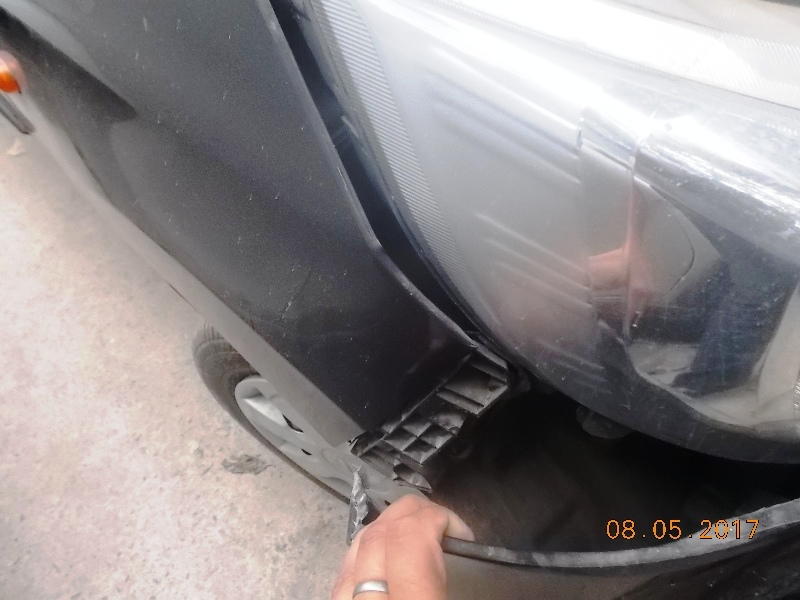Dislocation: (351, 358, 665, 573)
